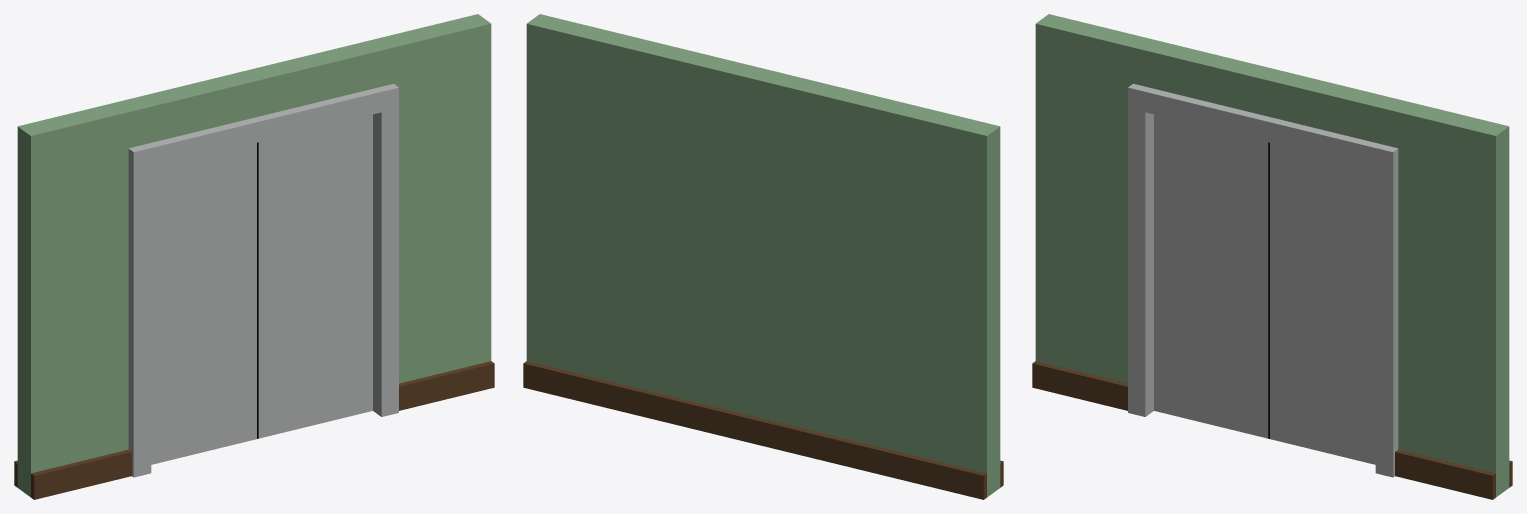
File: Elevator Door.fbx
3 views of the same model, side by side, from view 1: azimuth 30°, elevation 25°; view 2: azimuth 150°, elevation 25°; view 3: azimuth 330°, elevation 25° (orthographic).
Visible parts, largest first — view 1: Cube; view 2: Cube; view 3: Cube.
Part boxes in pixels (x1,y1,x2,y2): Cube: (14, 14, 494, 499); Cube: (523, 14, 1003, 499); Cube: (1032, 14, 1512, 499).
Bounding box in the file's own units: 400 × 300 × 33.
